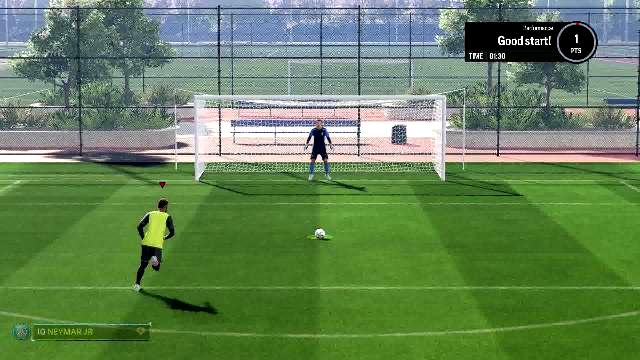bottom-left: (204, 142, 280, 180)
bottom-right: (359, 142, 439, 180)
center-down: (276, 142, 358, 180)
center-up: (280, 100, 360, 142)
circle: (308, 235, 336, 241)
football: (314, 229, 328, 240)
goalkeeper: (304, 118, 338, 182)
player: (132, 198, 182, 294)
top-left: (206, 102, 280, 142)
top-right: (362, 102, 442, 142)
